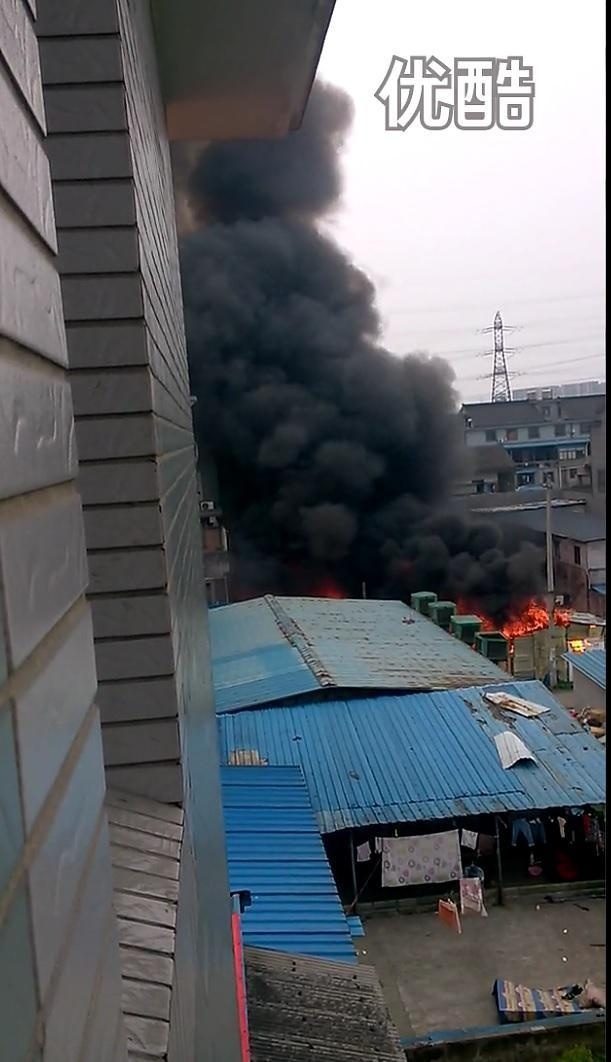fire: (483, 597, 575, 639)
